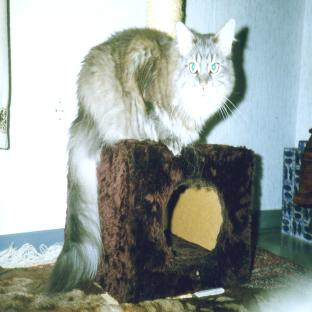Animal: (47, 19, 235, 293)
